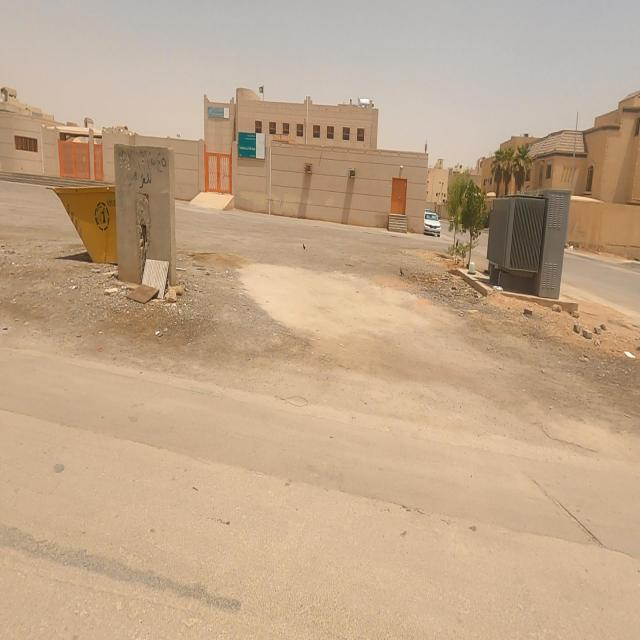Graffiti: (118, 149, 168, 190)
